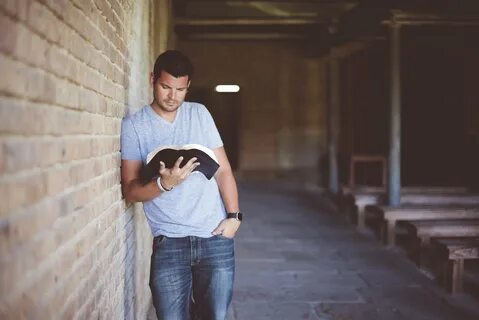awake: (120, 47, 243, 320)
